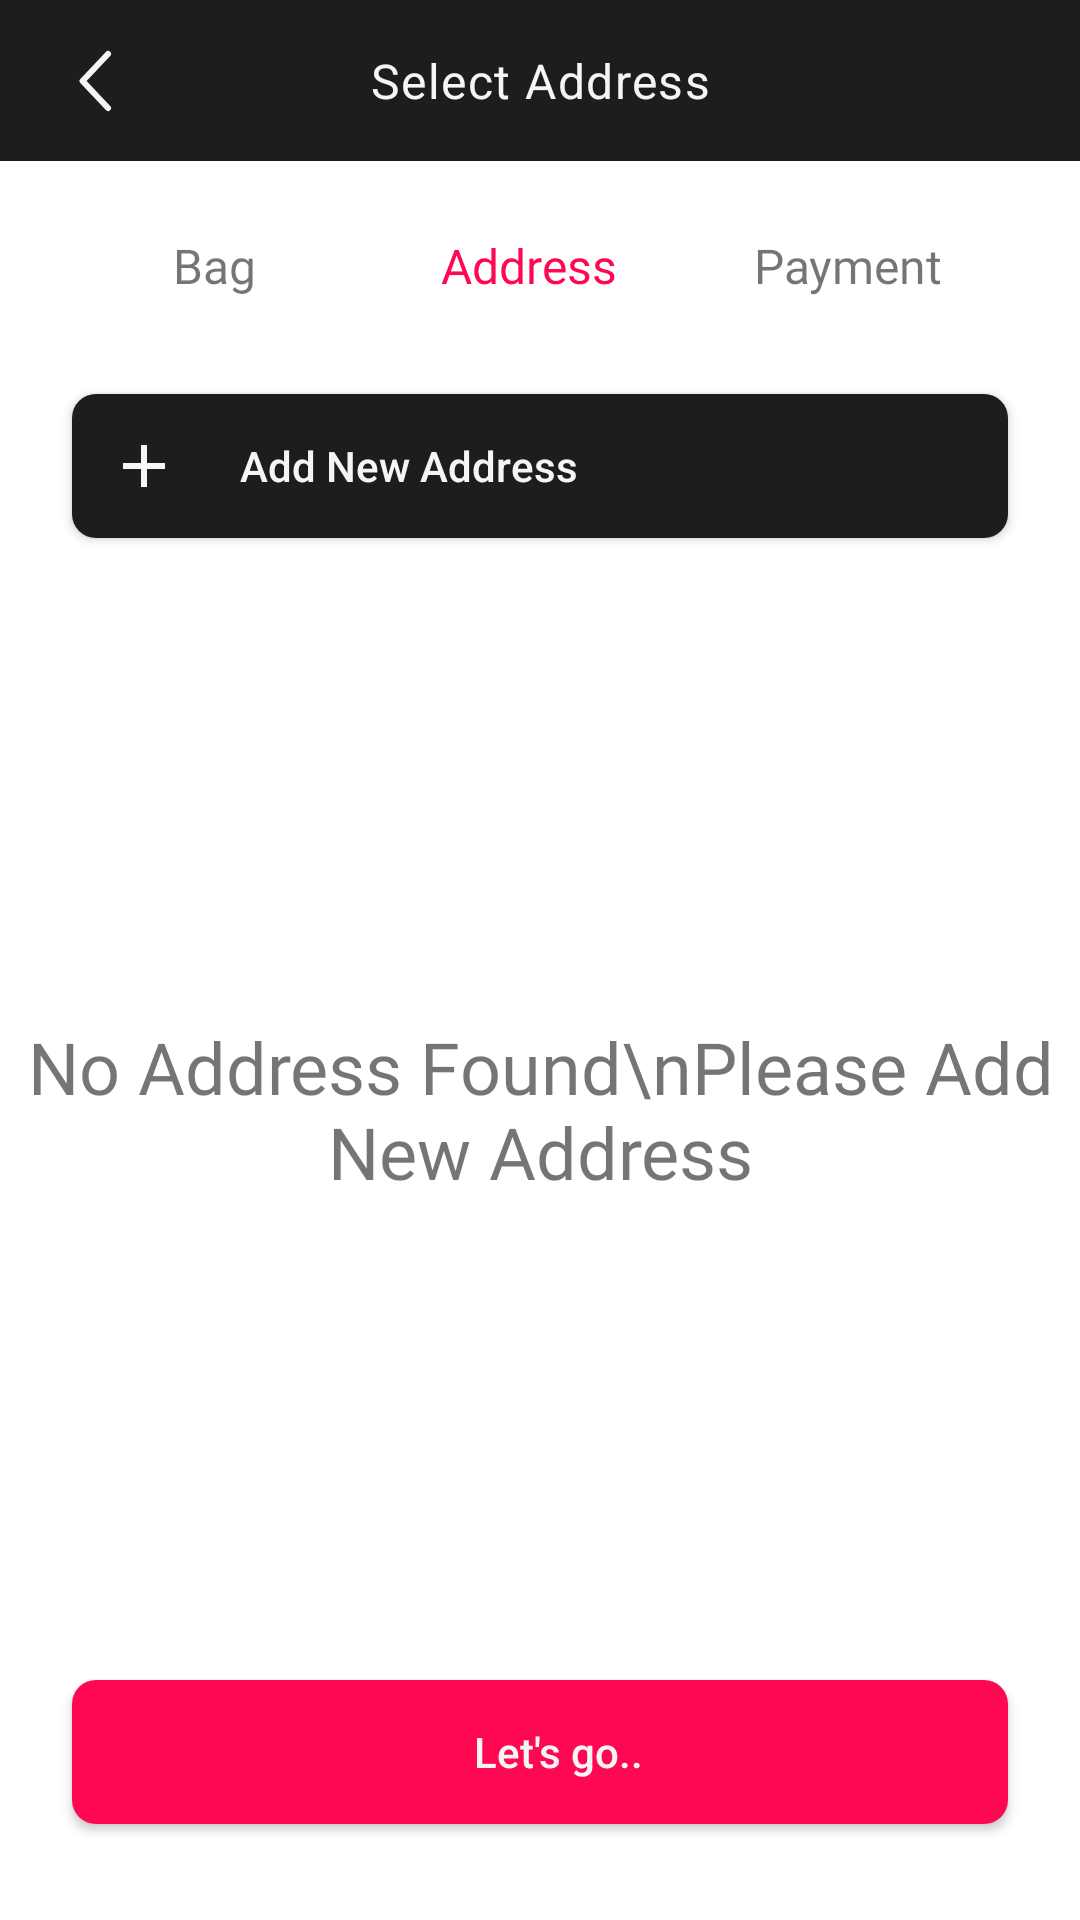

Where to tap for icons on this 1080px×1920px app screen, as (x=x, y=y):
arrow back: (x=95, y=81)
